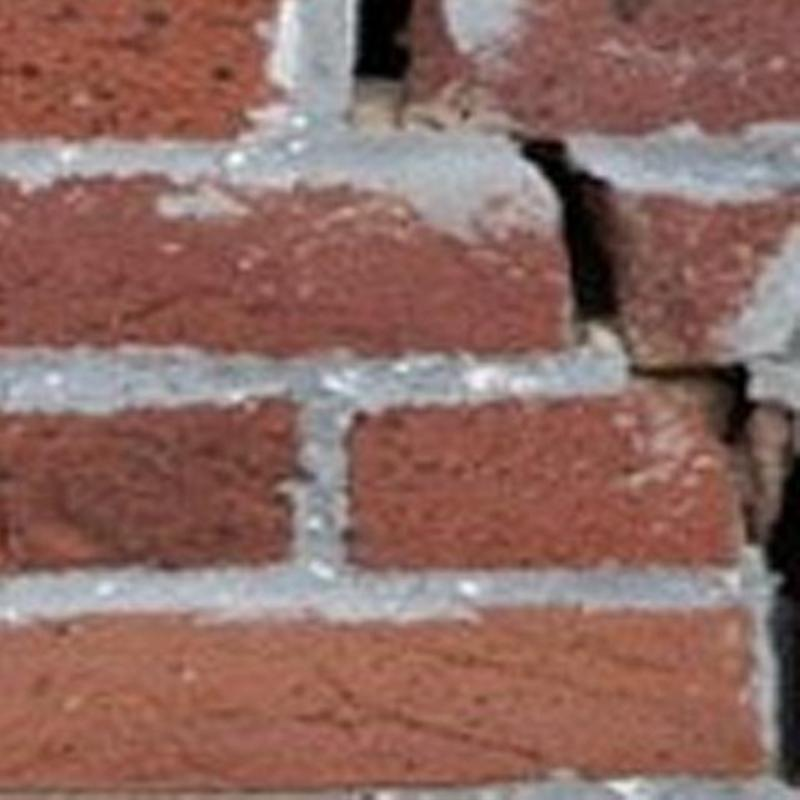crack: (516, 134, 617, 318), (767, 456, 800, 784), (636, 364, 755, 443), (355, 0, 412, 77)
